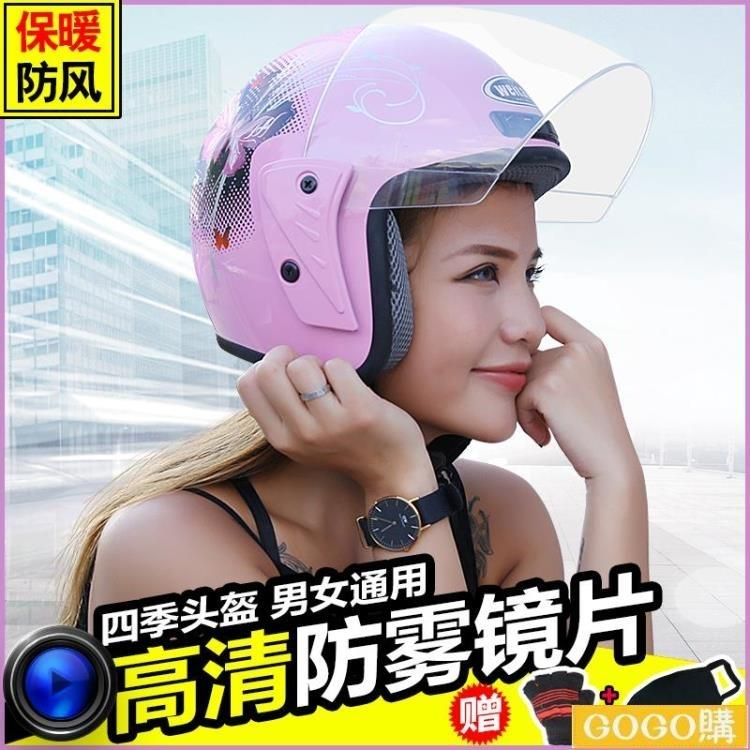helmet: (184, 38, 623, 376)
